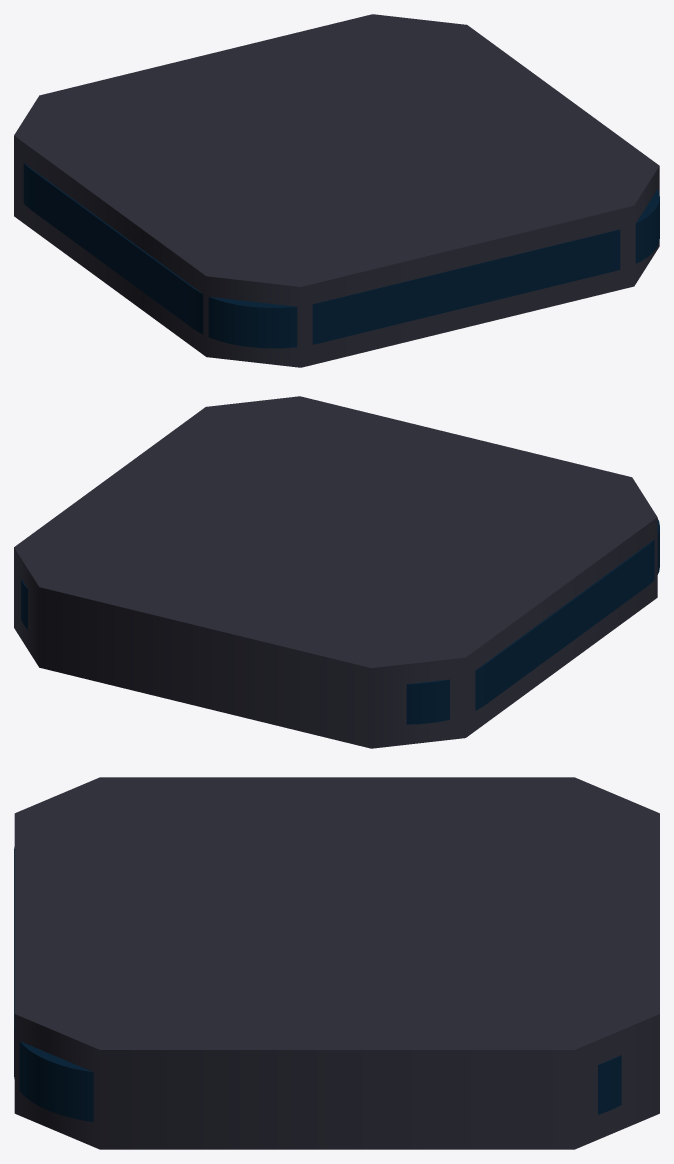
The model's file is photoshop.gltf.
3 views of the same model, one above another, from view 1: azimuth 30°, elevation 25°; view 2: azimuth 150°, elevation 25°; view 3: azimuth 270°, elevation 25° (orthographic). The views are drawn at different scales.
Parts seen in each view (by area): view 1: Cannon.008, Curve; view 2: Cannon.008, Curve; view 3: Cannon.008, Curve.
Part boxes in pixels (x1,y1,x2,y2): Cannon.008: (14,14,659,367); Curve: (23,163,659,348); Cannon.008: (14,396,657,748); Curve: (21,518,659,724); Cannon.008: (14,777,659,1149); Curve: (14,847,621,1121).
Bounding box in the file's own units: 0.7065 × 0.12 × 0.7048.
